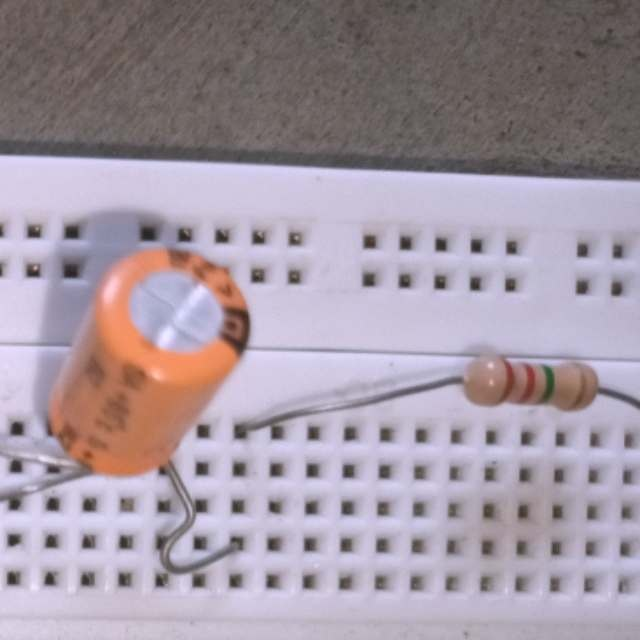capacitor: (44, 242, 250, 480)
resistor: (462, 349, 602, 418)
